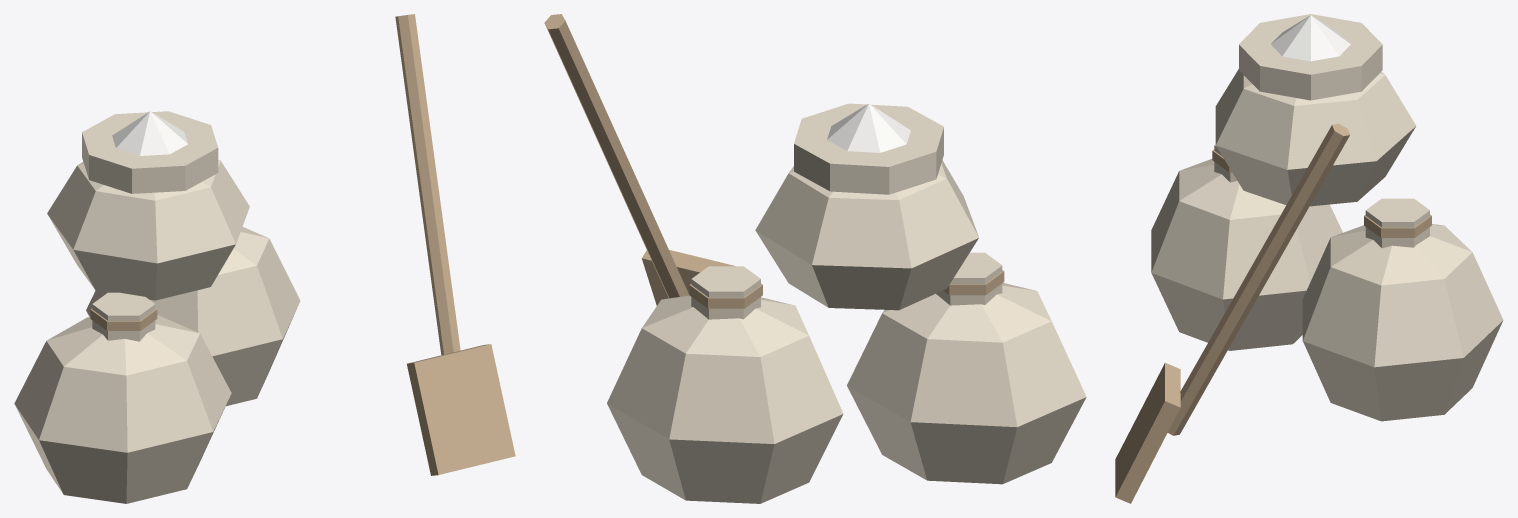
Rendered from stall-salter.glb.
The picture shows the model from 3 angles, left to right: view 1: azimuth 30°, elevation 25°; view 2: azimuth 150°, elevation 25°; view 3: azimuth 270°, elevation 25°; orthographic projection. The views are drawn at different scales.
Parts seen in each view (by area): view 1: stall-salter_sack, stall-salter_wood, stall-salter_salt; view 2: stall-salter_sack, stall-salter_wood, stall-salter_salt; view 3: stall-salter_sack, stall-salter_wood, stall-salter_salt.
Boxes of the visible parts, left/top/right/bottom form: stall-salter_sack: left=14, top=111, right=300, bottom=503; stall-salter_wood: left=90, top=14, right=515, bottom=475; stall-salter_salt: left=112, top=111, right=187, bottom=155; stall-salter_sack: left=607, top=103, right=1086, bottom=503; stall-salter_wood: left=544, top=14, right=1004, bottom=308; stall-salter_salt: left=827, top=103, right=910, bottom=152; stall-salter_sack: left=1151, top=14, right=1503, bottom=421; stall-salter_wood: left=1115, top=123, right=1431, bottom=503; stall-salter_salt: left=1271, top=15, right=1350, bottom=61.
Bounding box in the file's own units: 0.4486 × 0.3708 × 0.3416.
